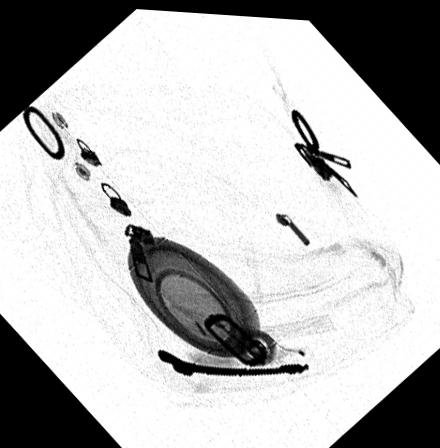Wrench: (157, 346, 310, 377)
